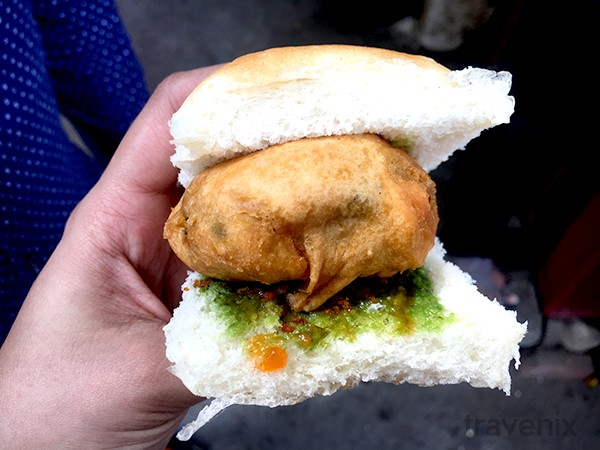vada pav: (225, 72, 452, 383)
